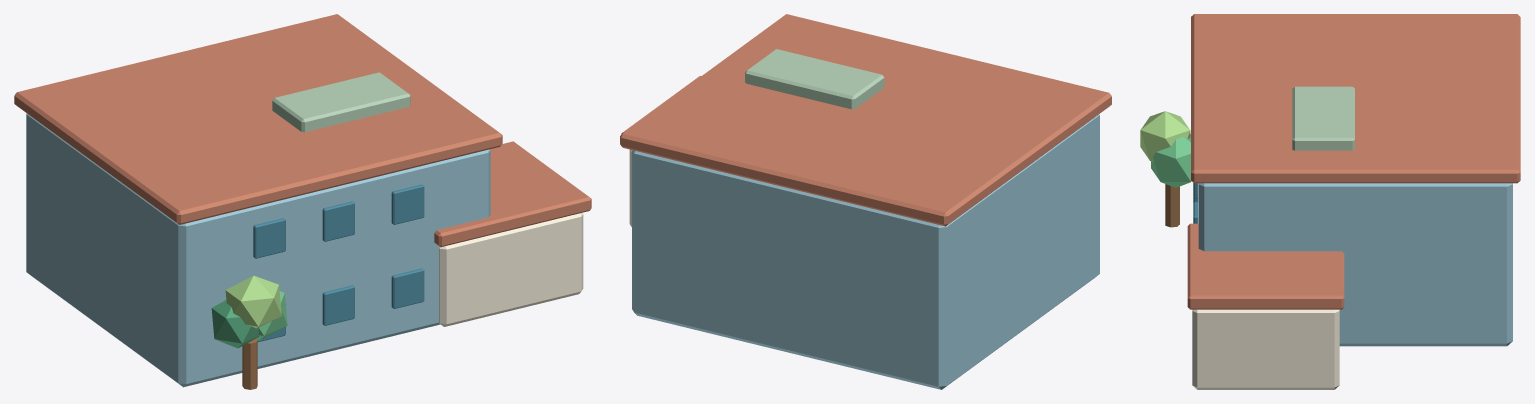
File: RES_LUX_2x2_002.glb
The picture shows the model from 3 angles, left to right: view 1: azimuth 30°, elevation 25°; view 2: azimuth 150°, elevation 25°; view 3: azimuth 270°, elevation 25°; orthographic projection.
Visible parts, largest first — view 1: RES_LUX_2x2_002_Visual; view 2: RES_LUX_2x2_002_Visual; view 3: RES_LUX_2x2_002_Visual.
Part boxes in pixels (<box>): RES_LUX_2x2_002_Visual: <box>14,14,591,389</box>; RES_LUX_2x2_002_Visual: <box>620,14,1111,389</box>; RES_LUX_2x2_002_Visual: <box>1140,14,1520,389</box>.
Size of what is drawn, in the model's own units: 3.7 by 1.67 by 2.96.
